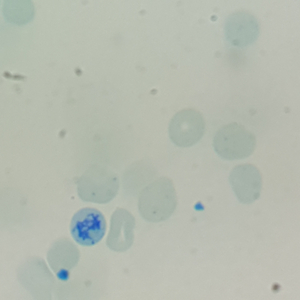aggregate reticulocyte: (68, 207, 108, 248)
erythrocyte: (15, 255, 56, 299), (167, 107, 207, 149), (226, 162, 264, 205), (45, 237, 81, 282), (222, 9, 261, 49), (104, 207, 137, 253)
punctate reticulocyte: (137, 175, 178, 224), (75, 164, 122, 205), (211, 121, 255, 162)
